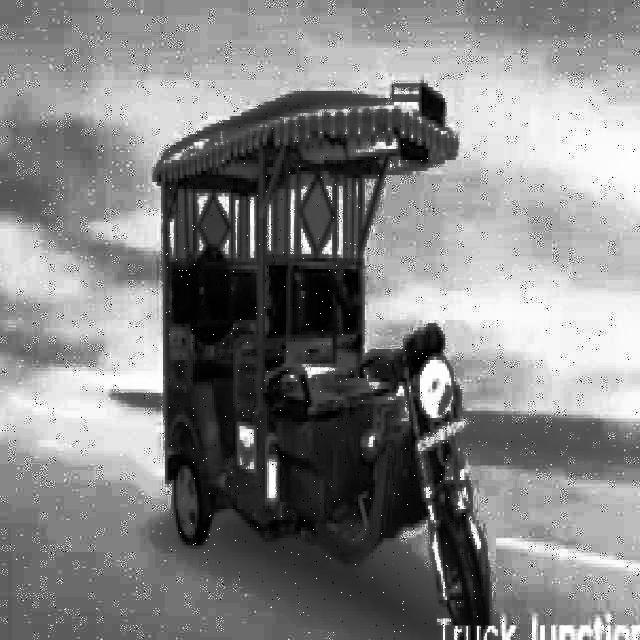Toto: (152, 80, 496, 640)
